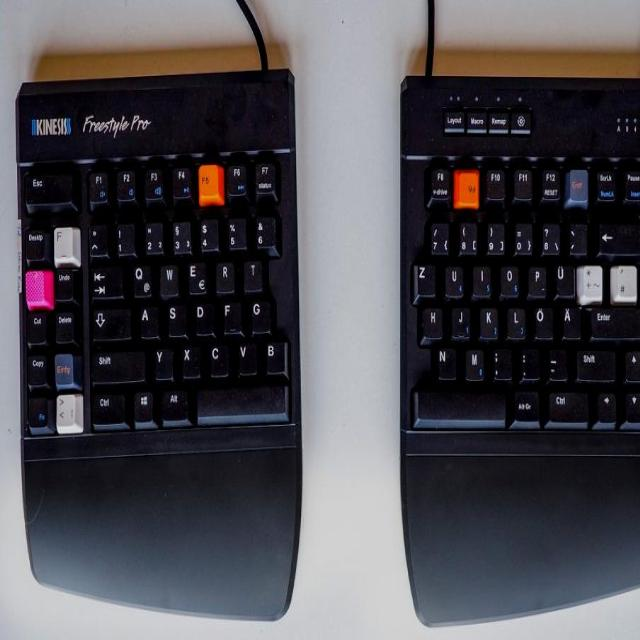0: (511, 217, 532, 253)
1: (114, 220, 134, 254)
2: (142, 217, 162, 253)
3: (169, 216, 191, 253)
4: (196, 214, 217, 249)
5: (225, 213, 246, 248)
6: (252, 211, 276, 247)
7: (425, 216, 448, 254)
8: (456, 216, 477, 254)
9: (483, 216, 503, 253)
a: (138, 302, 158, 336)
accent: (565, 217, 585, 253)
ae: (560, 303, 580, 337)
alt-left: (158, 384, 187, 420)
altgr-right: (510, 387, 538, 420)
b: (265, 340, 285, 374)
c: (206, 340, 227, 374)
caret: (86, 220, 106, 253)
comma: (490, 342, 511, 378)
d: (193, 299, 212, 332)
del: (596, 218, 640, 252)
e: (185, 257, 205, 292)
enter: (586, 303, 640, 336)
f: (220, 298, 241, 331)
g: (249, 295, 270, 331)
h: (422, 306, 443, 339)
hash: (608, 261, 637, 300)
i: (470, 260, 490, 293)
j: (449, 302, 470, 335)
k: (477, 302, 498, 336)
keyboard: (21, 149, 290, 454), (405, 159, 640, 449)
l: (504, 302, 524, 336)
m: (463, 342, 484, 378)
minus: (545, 344, 566, 378)
n: (434, 343, 456, 377)
o: (497, 260, 518, 293)
oe: (531, 302, 551, 336)
p: (525, 260, 546, 293)
plus: (575, 260, 601, 300)
point: (518, 344, 539, 377)
q: (129, 259, 150, 295)
r: (213, 256, 234, 290)
s: (165, 300, 185, 334)
shift-left: (89, 345, 145, 381)
shift-lock: (89, 303, 130, 338)
shift-right: (573, 345, 615, 378)
space: (194, 381, 286, 418), (414, 387, 506, 420)
ss: (538, 217, 559, 253)
strg-left: (89, 388, 126, 424)
strg-right: (545, 388, 589, 421)
t: (242, 255, 263, 289)
tab: (87, 262, 121, 296)
u: (442, 260, 462, 294)
ue: (553, 260, 573, 294)
v: (237, 339, 257, 373)
w: (157, 259, 178, 293)
x: (179, 342, 200, 376)
y: (152, 344, 172, 377)
z: (415, 264, 437, 298)
